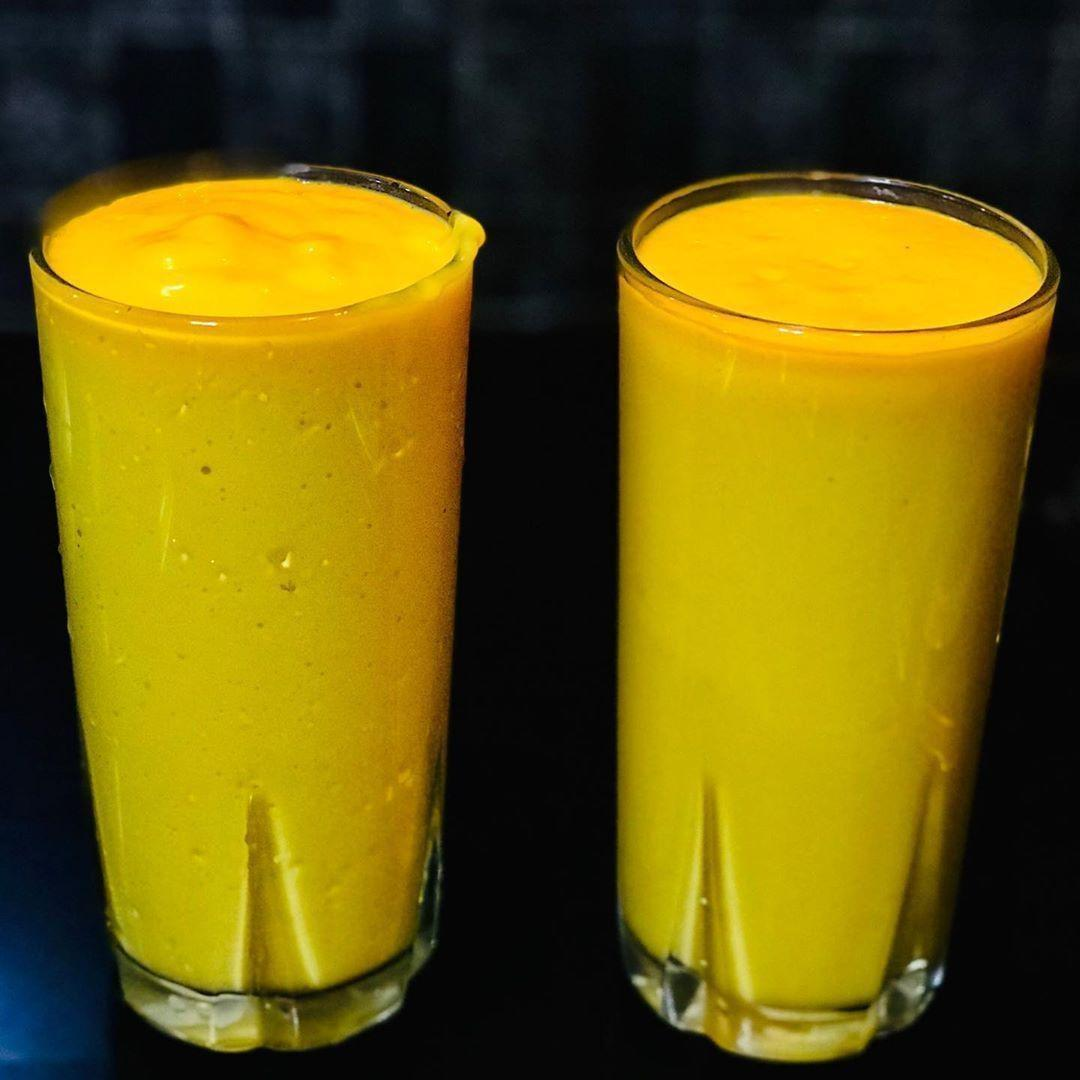glass-normal: (21, 157, 484, 1049), (606, 167, 1063, 1059)
